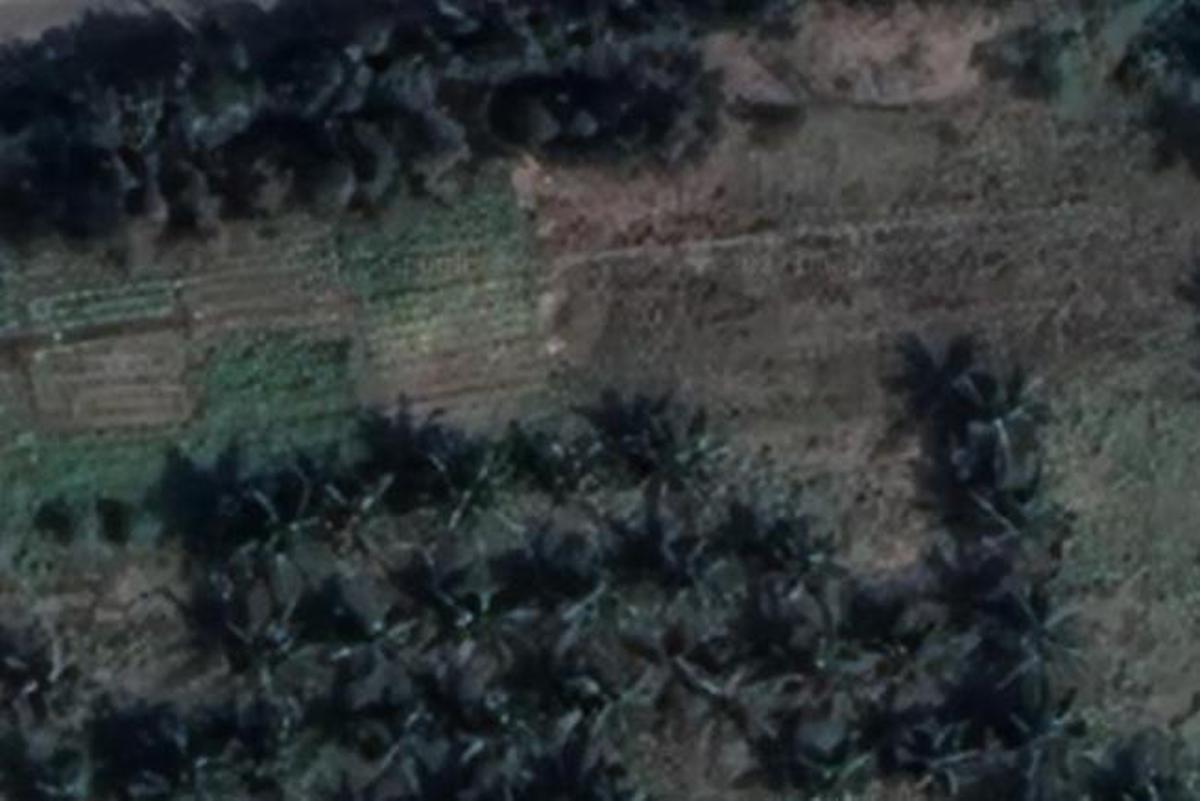coconut: (948, 367, 1056, 468), (683, 651, 780, 747), (651, 533, 749, 623), (533, 553, 627, 644), (624, 415, 725, 498), (965, 478, 1056, 570), (526, 424, 618, 514), (790, 621, 880, 712), (234, 472, 312, 575), (766, 518, 856, 607), (304, 472, 393, 562), (236, 677, 328, 764), (902, 712, 998, 795), (419, 446, 505, 537), (998, 601, 1087, 688), (563, 655, 648, 741), (0, 634, 81, 721), (786, 732, 888, 801), (216, 596, 300, 679), (348, 706, 432, 788), (132, 727, 223, 799), (875, 614, 965, 686), (452, 695, 531, 773), (1007, 706, 1087, 782), (339, 605, 415, 682), (448, 581, 518, 658)
